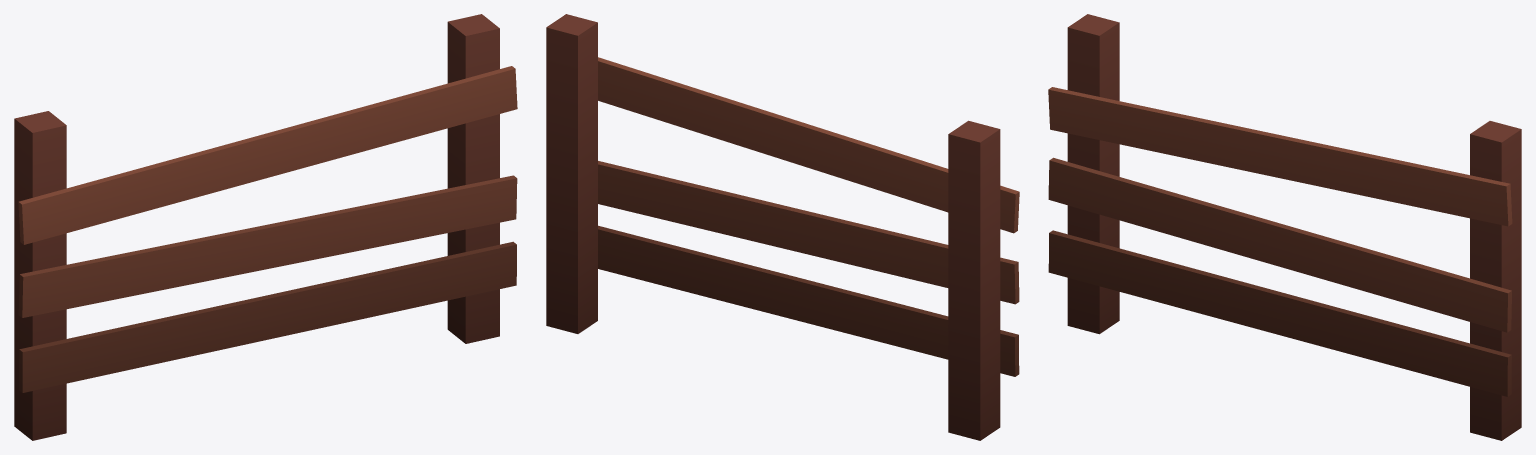
File: farmpack2023fence02.fbx
3 views of the same model, side by side, from view 1: azimuth 30°, elevation 25°; view 2: azimuth 150°, elevation 25°; view 3: azimuth 330°, elevation 25° (orthographic). The views are drawn at different scales.
Parts seen in each view (by area): view 1: Cube.009; view 2: Cube.009; view 3: Cube.009.
Boxes of the visible parts, <box> form: Cube.009: <box>14,14,517,440</box>; Cube.009: <box>546,14,1019,440</box>; Cube.009: <box>1048,14,1521,440</box>.
Bounding box in the file's own units: 0.365 × 2.97 × 1.8.
